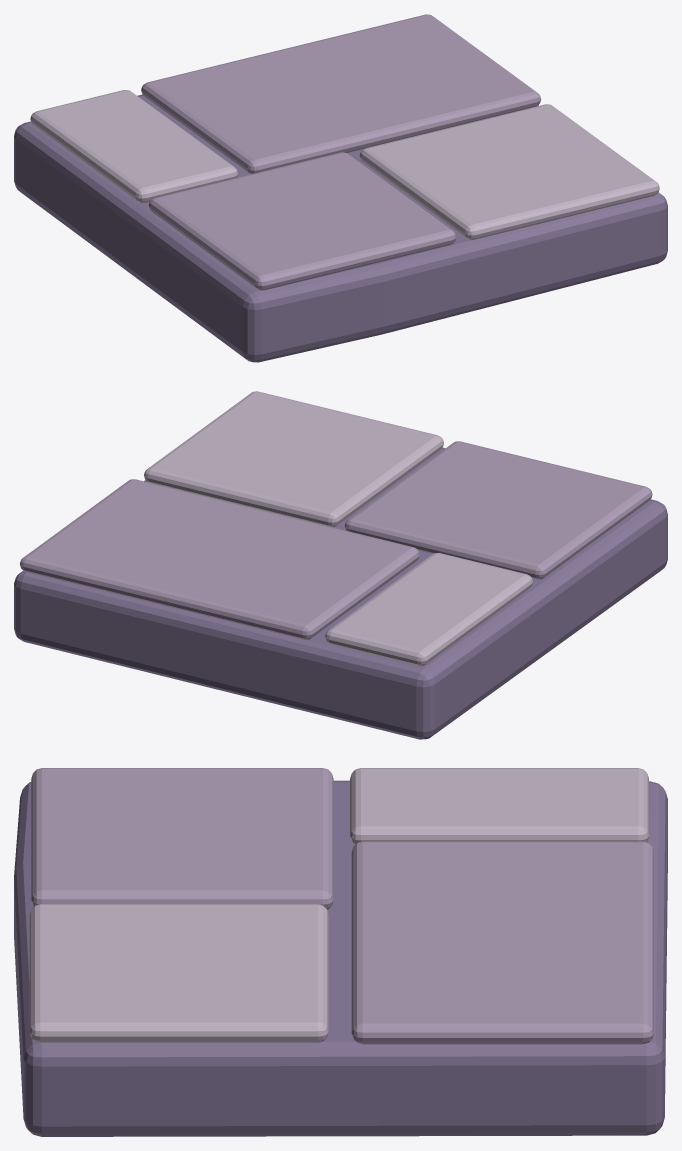
The model's file is inferno_tile.glb.
The picture shows the model from 3 angles, top to bottom: view 1: azimuth 30°, elevation 25°; view 2: azimuth 150°, elevation 25°; view 3: azimuth 270°, elevation 25°; orthographic projection. The views are drawn at different scales.
Parts seen in each view (by area): view 1: Batched V2 inferno stone_light, Batched V2 inferno stone, Batched V2 inferno ground; view 2: Batched V2 inferno stone_light, Batched V2 inferno stone, Batched V2 inferno ground; view 3: Batched V2 inferno stone_light, Batched V2 inferno stone, Batched V2 inferno ground.
Boxes of the visible parts, box(x1,y1,x2,y2) form: Batched V2 inferno stone_light: box(141, 14, 541, 290); Batched V2 inferno stone: box(14, 94, 667, 362); Batched V2 inferno ground: box(30, 90, 659, 239); Batched V2 inferno stone_light: box(20, 441, 652, 639); Batched V2 inferno stone: box(14, 447, 667, 739); Batched V2 inferno ground: box(144, 391, 532, 665); Batched V2 inferno stone_light: box(31, 768, 653, 1044); Batched V2 inferno stone: box(14, 780, 667, 1136); Batched V2 inferno ground: box(29, 768, 648, 1042).
Size of the model in its own units: 1.98 by 0.3705 by 1.98.
